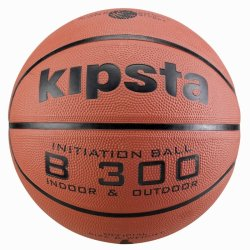basketball: (7, 8, 240, 242)
